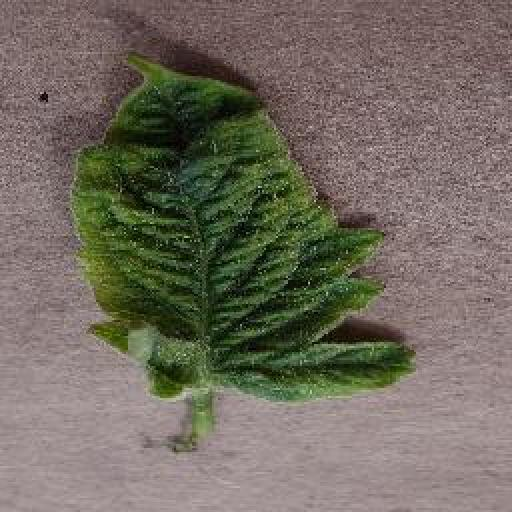disease_tomato: (70, 46, 417, 406)
